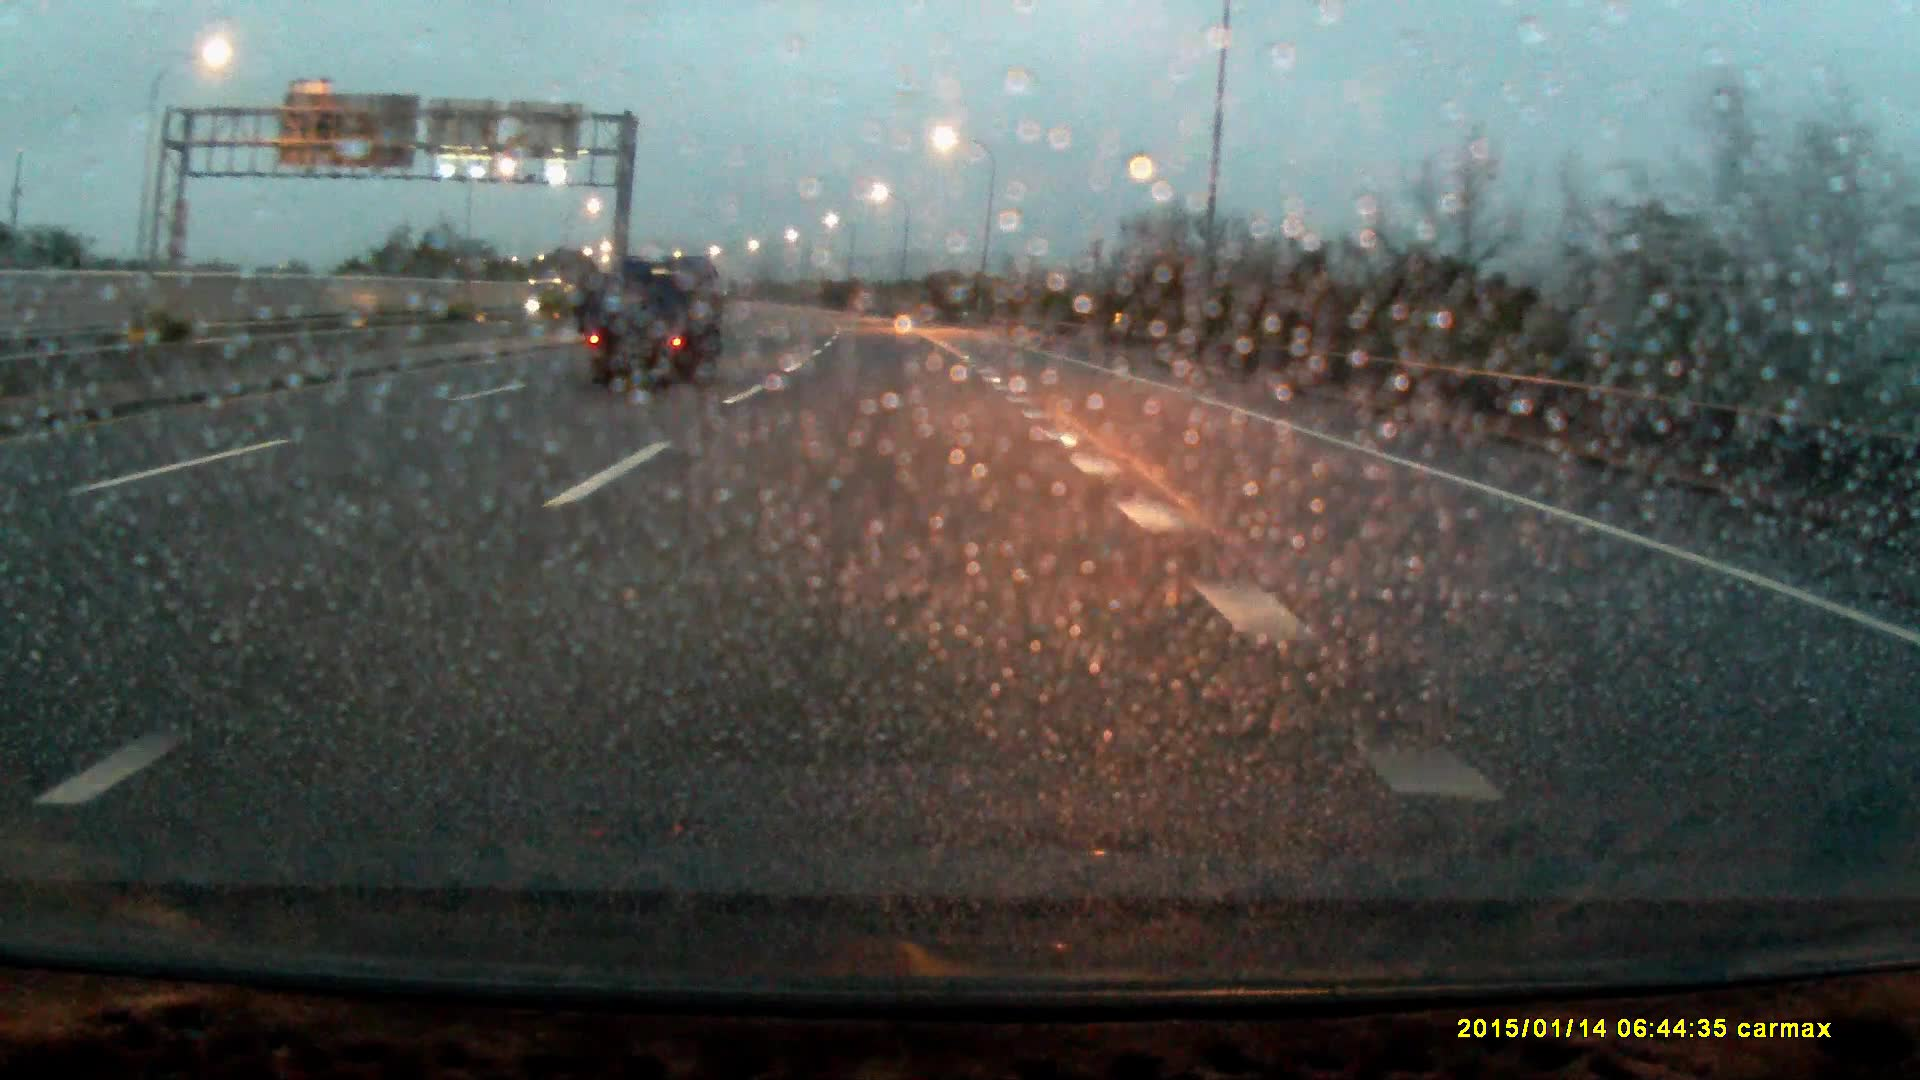vehicle: (579, 253, 727, 384)
